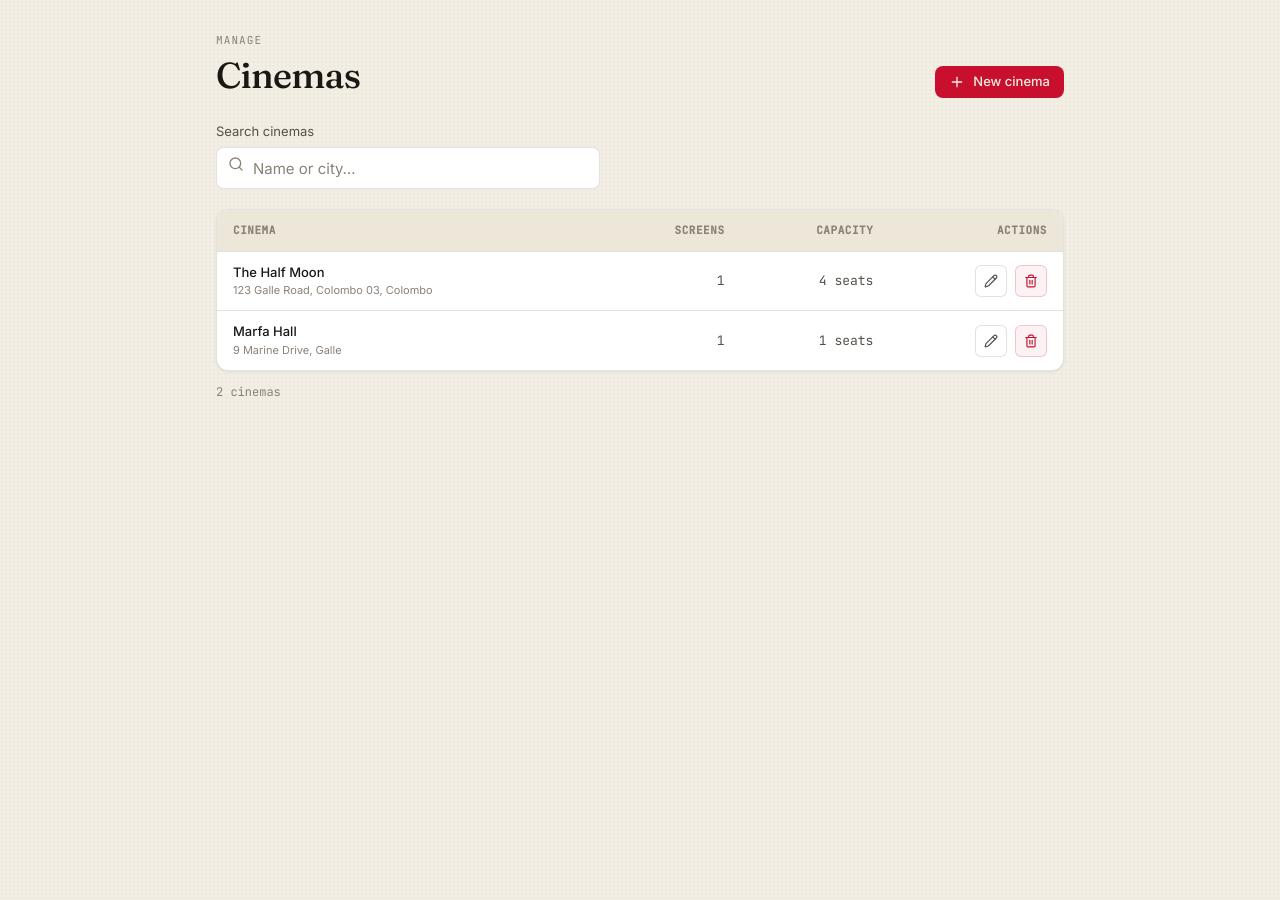
AdminCinemasPage › surfaces CINEMA_IN_USE instead of deleting when the cinema has showtimes
Expected: the text "The Half Moon" is shown, [233,264,324,280]
Click the button titled "Delete cinema" in the row of "The Half Moon": (1031, 281) [1015,265,1047,297]
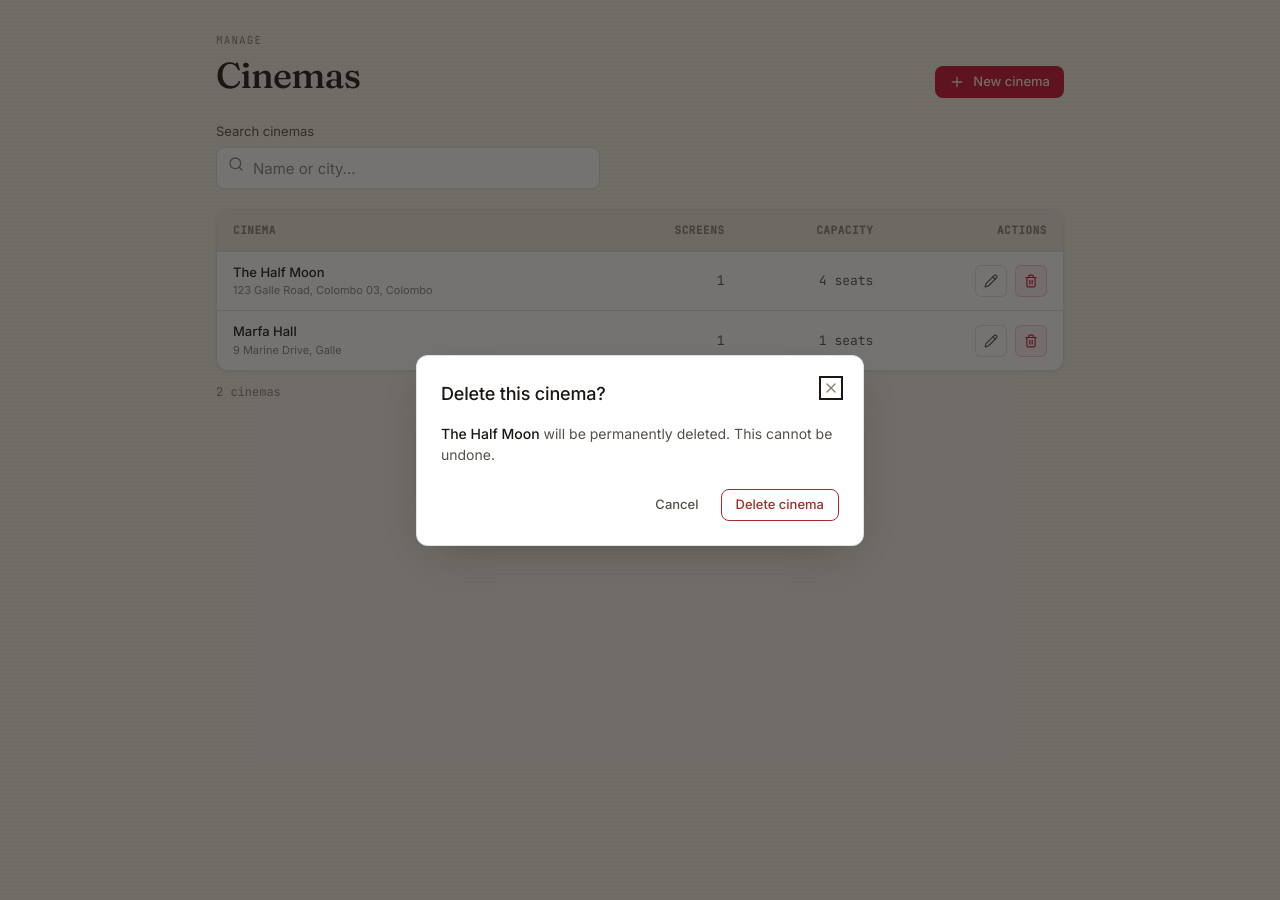
Click the button "Delete cinema": (780, 504) [720,488,839,520]
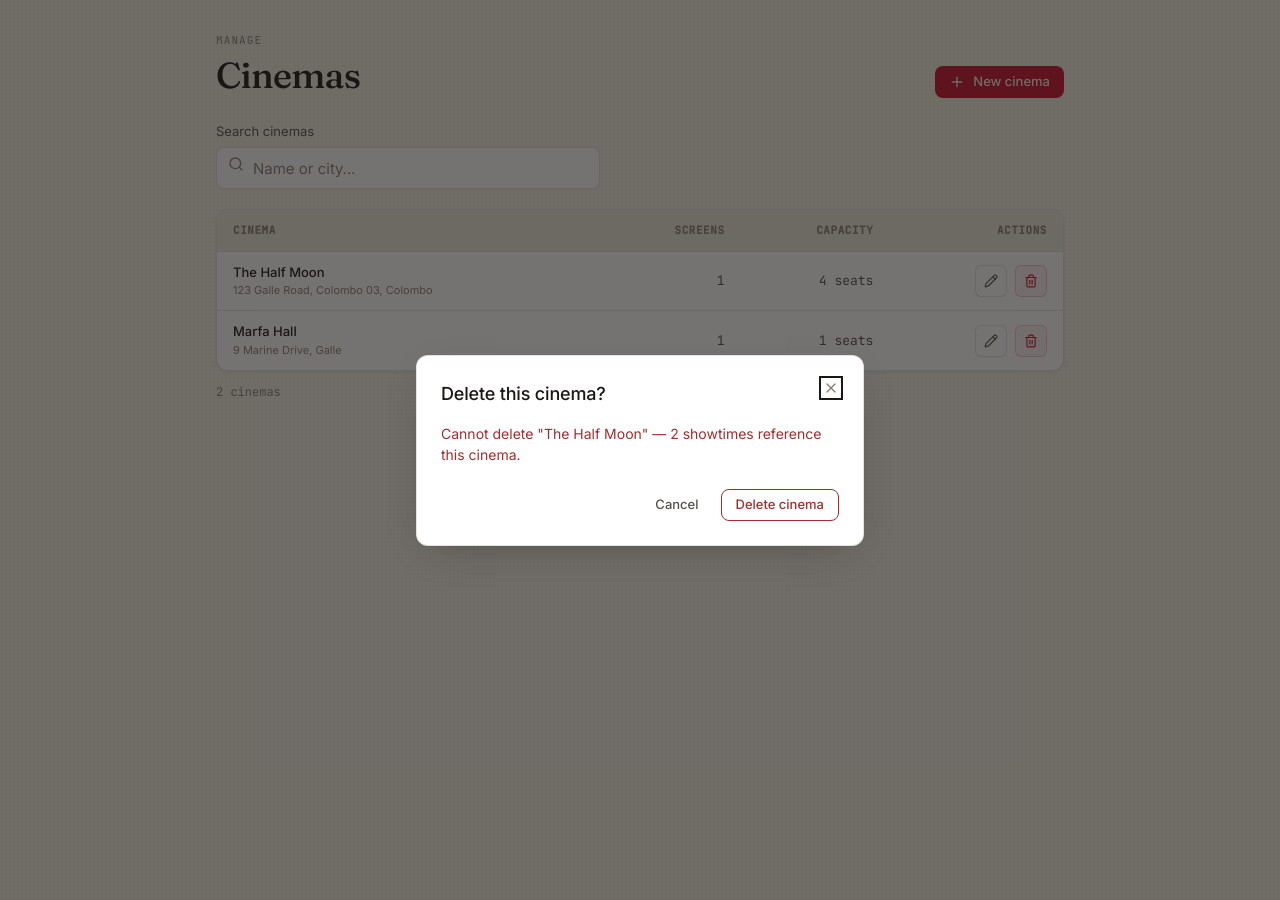
Expected: the message shows "2 showtimes reference this cinema", [441,424,821,462]
